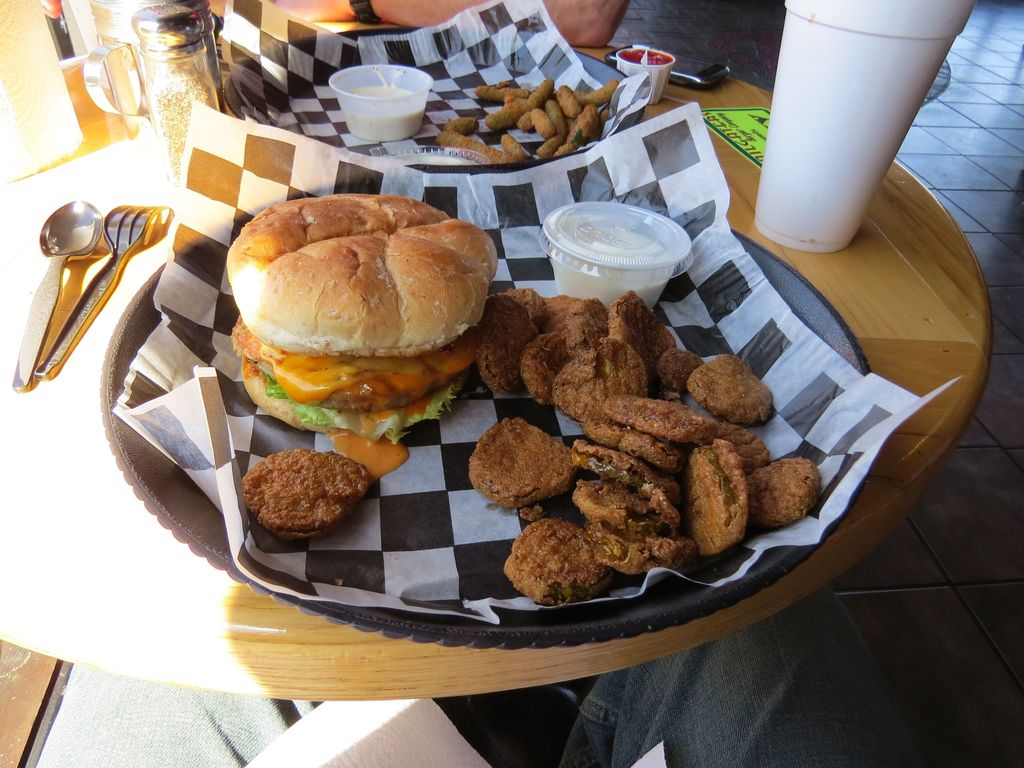Hamburger: (227, 189, 503, 443)
